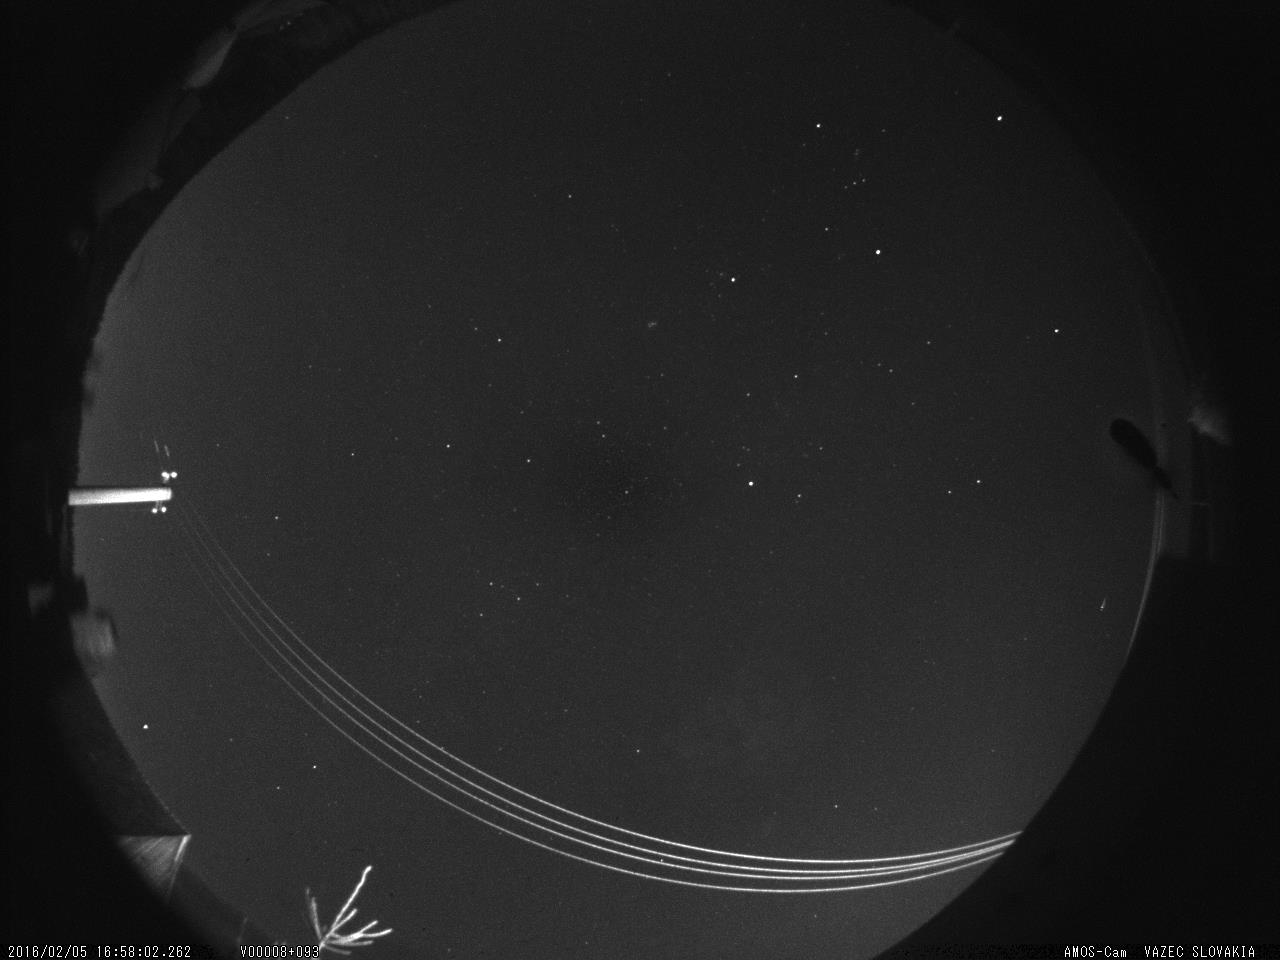meteor: (1094, 587, 1113, 618)
